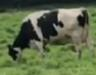cow: (8, 9, 89, 64)
